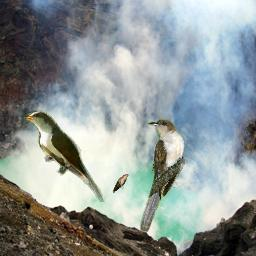Cuckoo: (24, 109, 105, 202), (140, 119, 185, 232), (112, 174, 129, 194)
